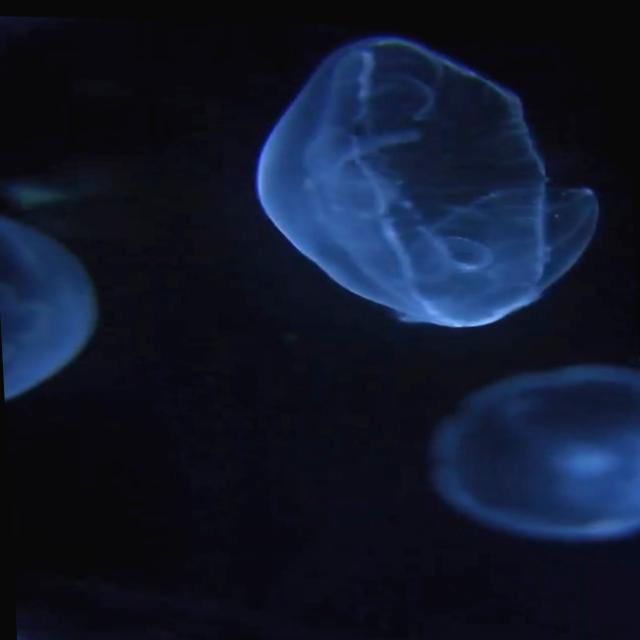Moon-jellyfish: (250, 29, 596, 322), (421, 354, 640, 538), (0, 209, 95, 404)
